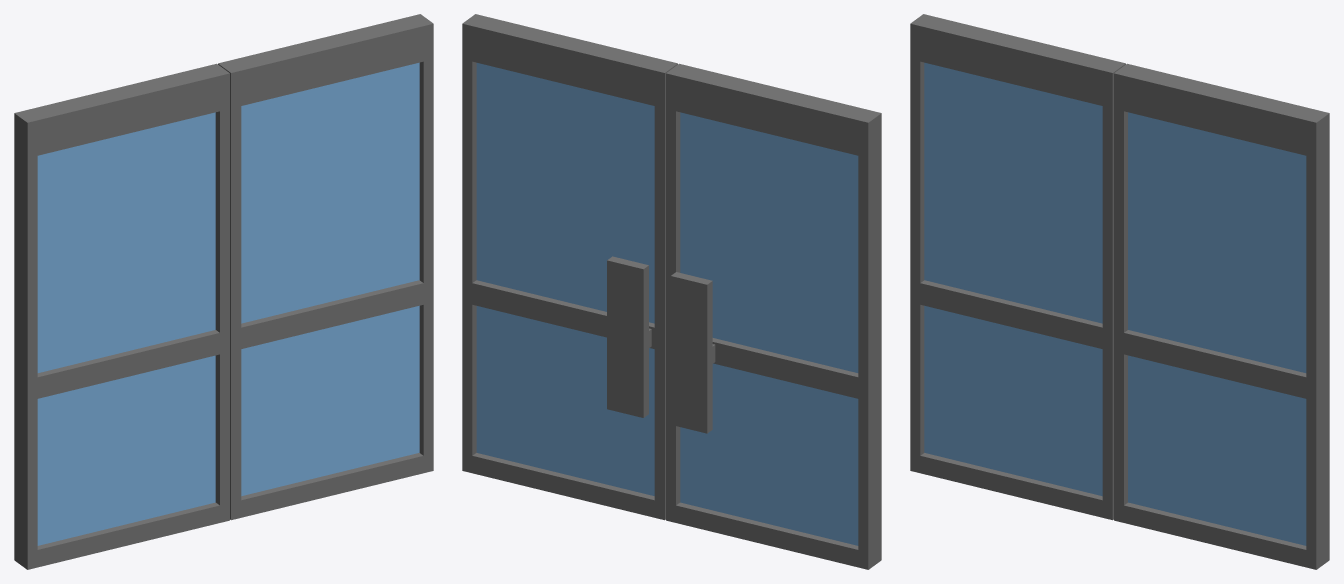
File: Obj_Puerta_Principal.fbx
The picture shows the model from 3 angles, left to right: view 1: azimuth 30°, elevation 25°; view 2: azimuth 150°, elevation 25°; view 3: azimuth 330°, elevation 25°; orthographic projection.
Visible parts, largest first — view 1: Puerta_Principal; view 2: Puerta_Principal; view 3: Puerta_Principal.
Part boxes in pixels (x1=…): Puerta_Principal: x1=14, y1=14, x2=433, y2=569; Puerta_Principal: x1=462, y1=14, x2=881, y2=569; Puerta_Principal: x1=910, y1=14, x2=1329, y2=569.
Bounding box in the file's own units: 5.44 × 5.72 × 0.497.
